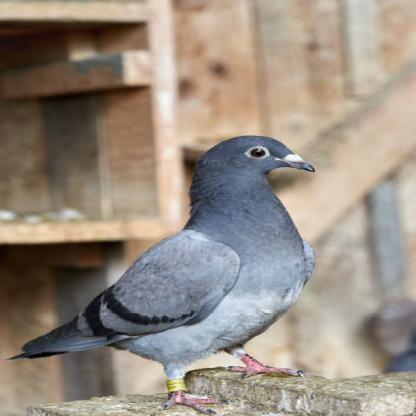Rock Pigeon: (18, 132, 319, 379)
